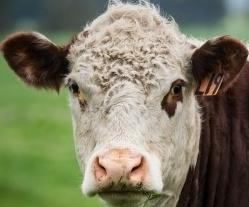muzzles: (79, 146, 164, 206)
